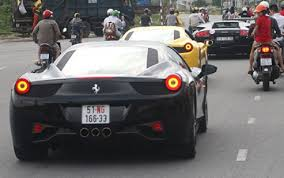plate: (80, 101, 111, 123)
